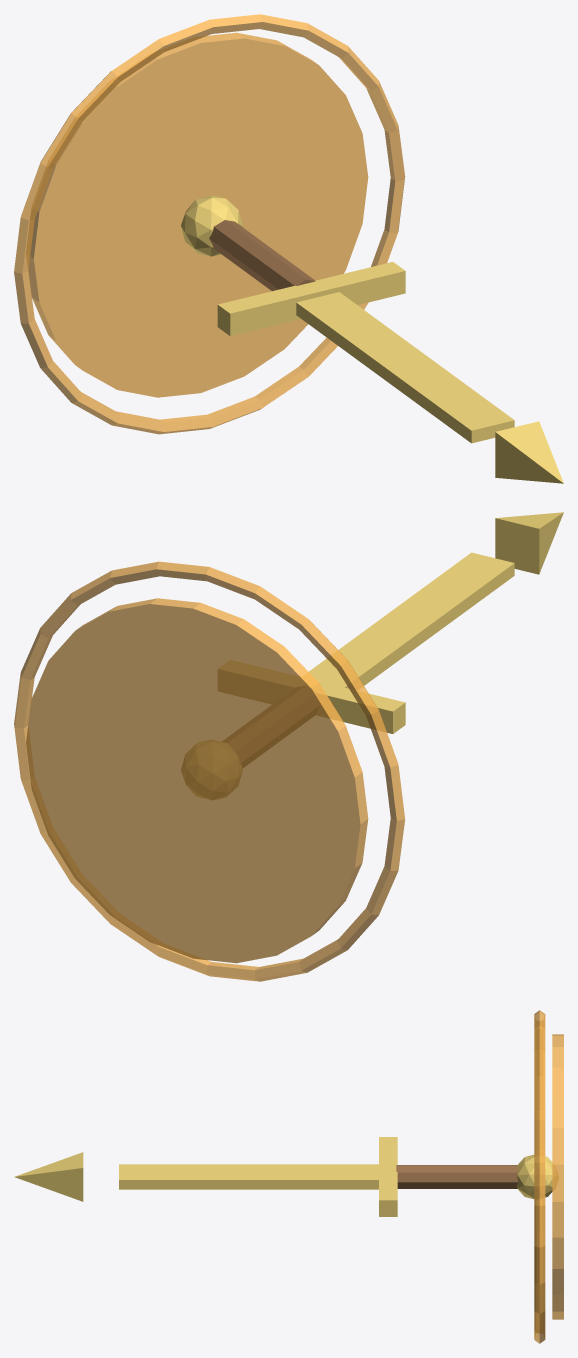
Rendered from weapon_pickup_gilded_sword_legendary.glb.
The picture shows the model from 3 angles, top to bottom: view 1: azimuth 30°, elevation 25°; view 2: azimuth 150°, elevation 25°; view 3: azimuth 270°, elevation 25°; orthographic projection. The views are drawn at different scales.
Parts seen in each view (by area): view 1: rarity_base_disc, rarity_orbit_ring, blade, guard, grip, tip, pommel; view 2: rarity_base_disc, rarity_orbit_ring, blade, guard, grip, tip, pommel; view 3: blade, rarity_orbit_ring, rarity_base_disc, grip, tip, pommel, guard.
Boxes of the visible parts, <box> form: rarity_base_disc: <box>28,32,368,397</box>; rarity_orbit_ring: <box>14,14,405,434</box>; blade: <box>296,292,514,443</box>; guard: <box>217,262,405,336</box>; grip: <box>209,220,315,291</box>; tip: <box>495,421,563,483</box>; pommel: <box>181,195,242,256</box>; rarity_base_disc: <box>26,598,368,963</box>; rarity_orbit_ring: <box>14,561,405,981</box>; blade: <box>303,552,514,689</box>; guard: <box>218,660,405,733</box>; grip: <box>222,686,319,767</box>; tip: <box>495,512,563,574</box>; pommel: <box>181,740,242,799</box>; blade: <box>119,1164,378,1189</box>; rarity_orbit_ring: <box>534,1010,545,1343</box>; rarity_base_disc: <box>552,1034,563,1319</box>; grip: <box>396,1165,518,1188</box>; tip: <box>14,1152,83,1201</box>; pommel: <box>517,1154,558,1199</box>; guard: <box>379,1137,397,1216</box>.
Size of the model in its own units: 1.45 by 1.45 by 2.38.
